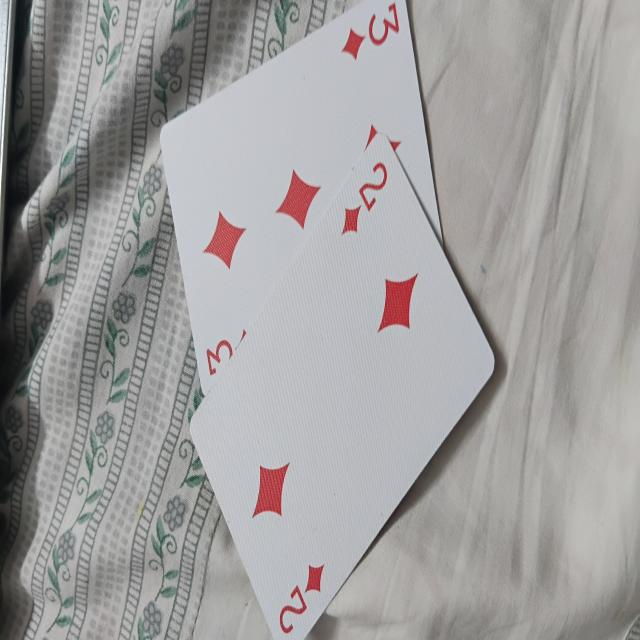2D: (189, 130, 495, 640)
3D: (160, 0, 441, 394)
